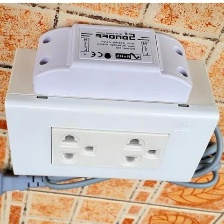three_eye_plug: (1, 29, 221, 185)
